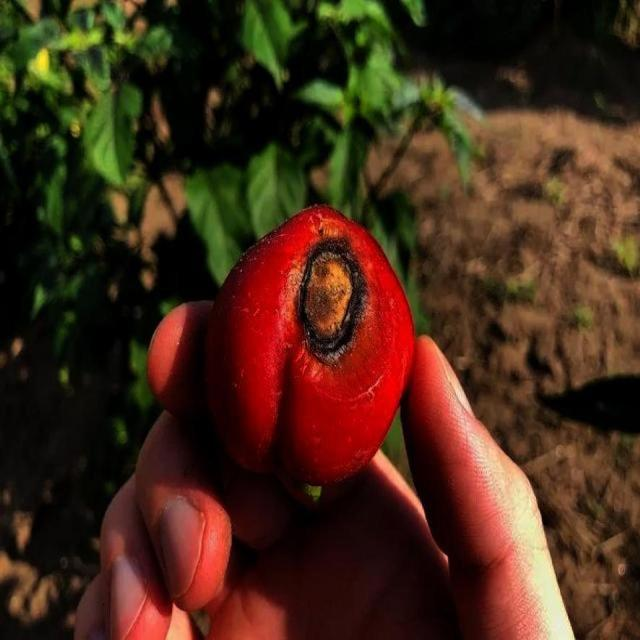Blossom End Rot Fruit: (194, 148, 264, 256)
